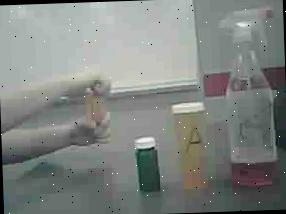Bottle A: (168, 95, 216, 196)
Bottle B: (82, 78, 114, 138)
Bottle C: (130, 132, 167, 200)
hazard: (213, 0, 286, 196)
